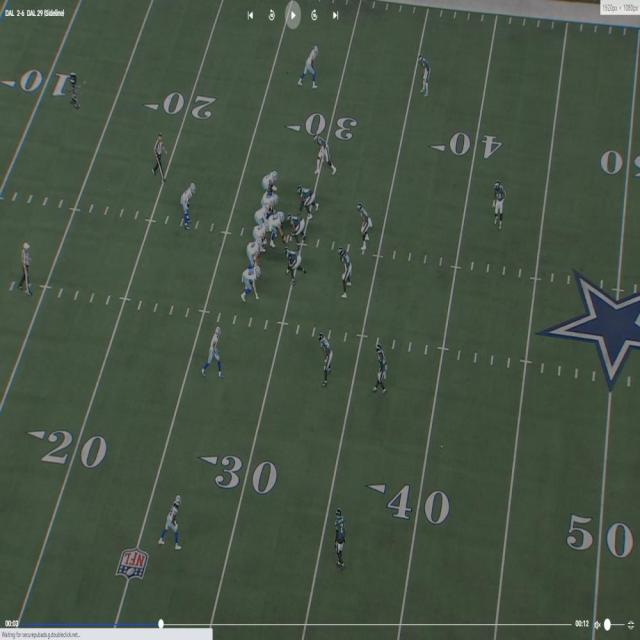center: (269, 208, 286, 244)
db: (334, 507, 346, 568), (494, 182, 508, 225), (374, 342, 386, 392), (423, 58, 433, 97)
lb: (341, 251, 354, 299), (317, 139, 332, 177), (358, 205, 370, 252), (318, 333, 328, 383)
qb: (255, 203, 270, 224)
skill: (160, 496, 180, 550), (207, 325, 223, 375), (303, 44, 320, 86), (243, 264, 259, 300), (181, 184, 193, 225)
